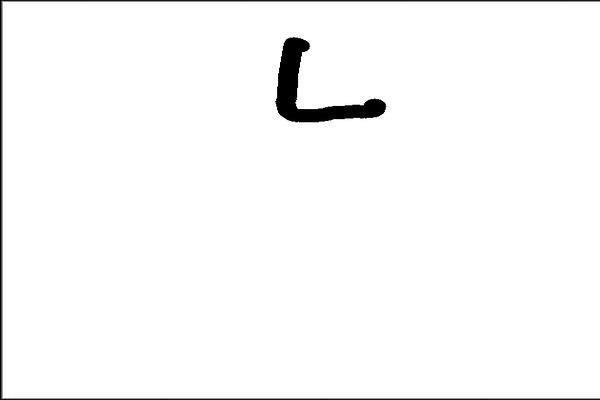L: (273, 31, 391, 125)
